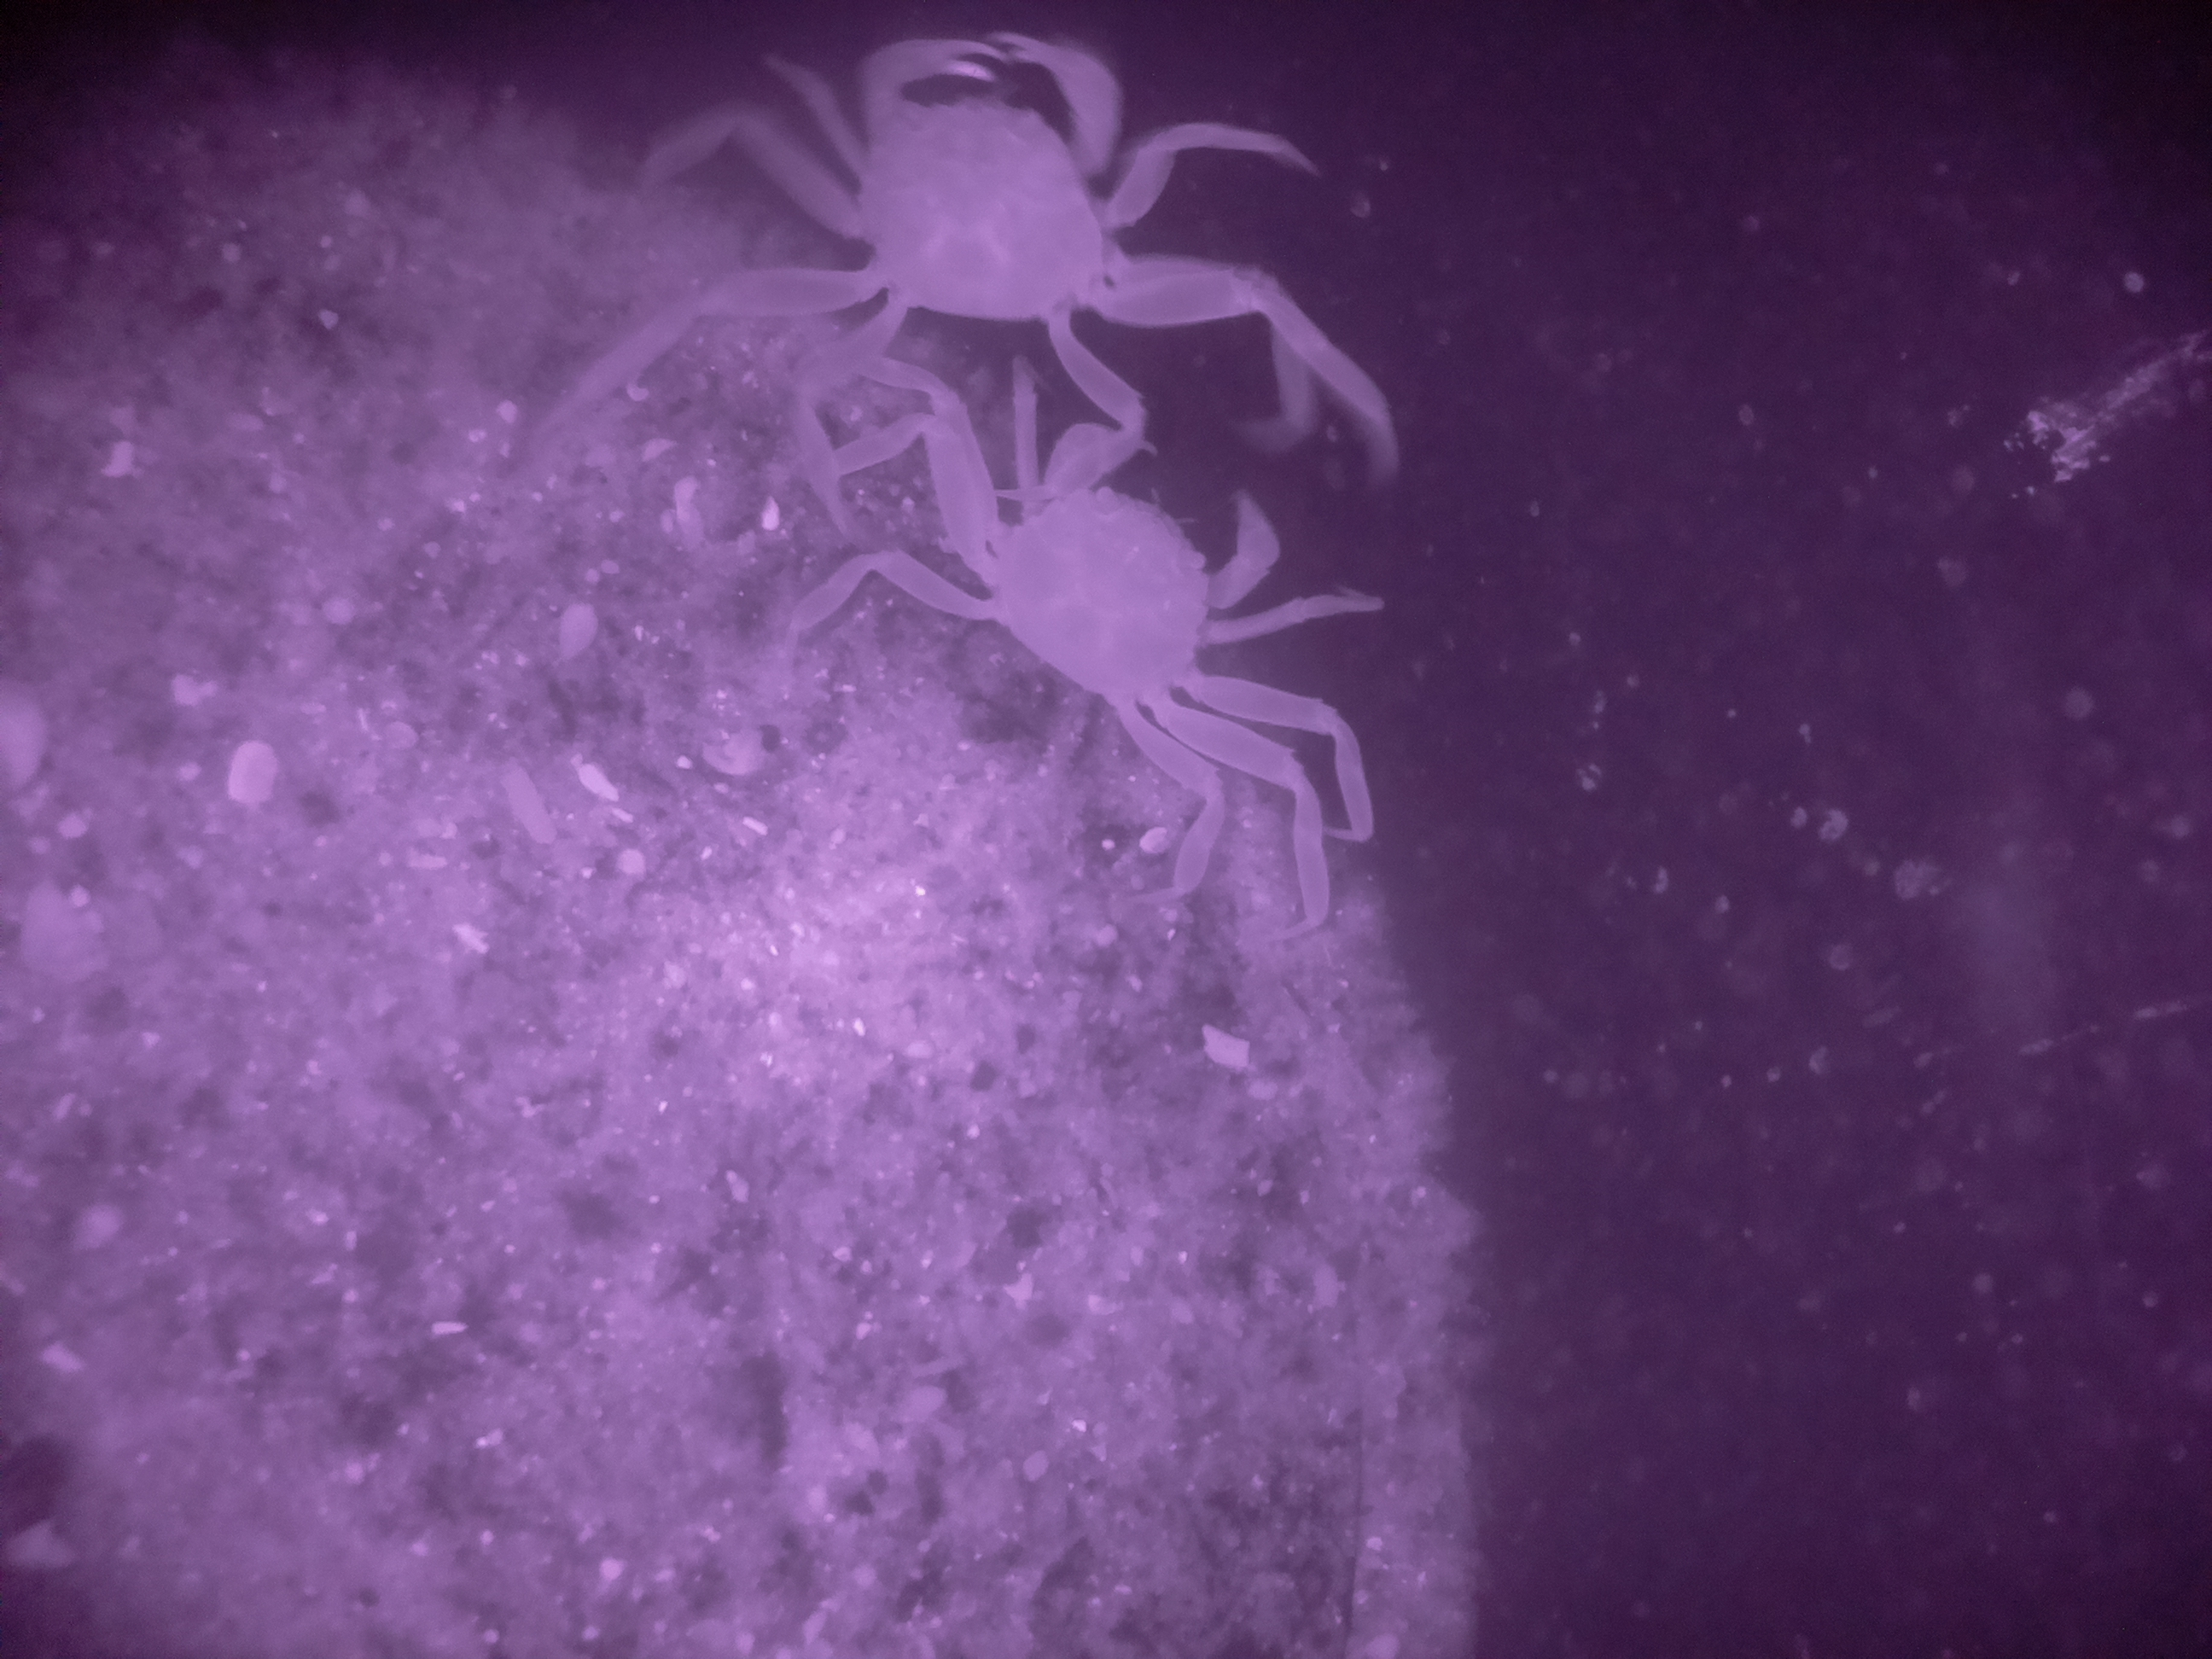Crab: (894, 376, 1329, 829)
